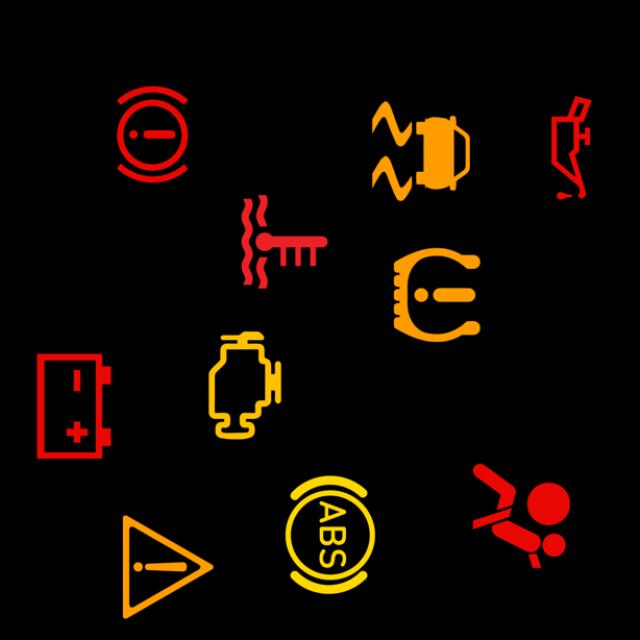Anti Lock Braking System: (266, 470, 395, 599)
Braking System Issue: (87, 70, 217, 199)
Charging System Issue: (9, 342, 139, 471)
Check Engine: (180, 321, 310, 450)
Electronic Stability Problem -ESP-: (356, 86, 486, 216)
Engine Overheating Warning Light: (220, 177, 349, 307)
Low Engine Oil Warning Light: (506, 83, 636, 213)
Low Tire Pressure Warning Light: (372, 230, 501, 360)
Master warning light: (103, 502, 233, 632)
SRS-Airbag: (456, 451, 586, 581)
